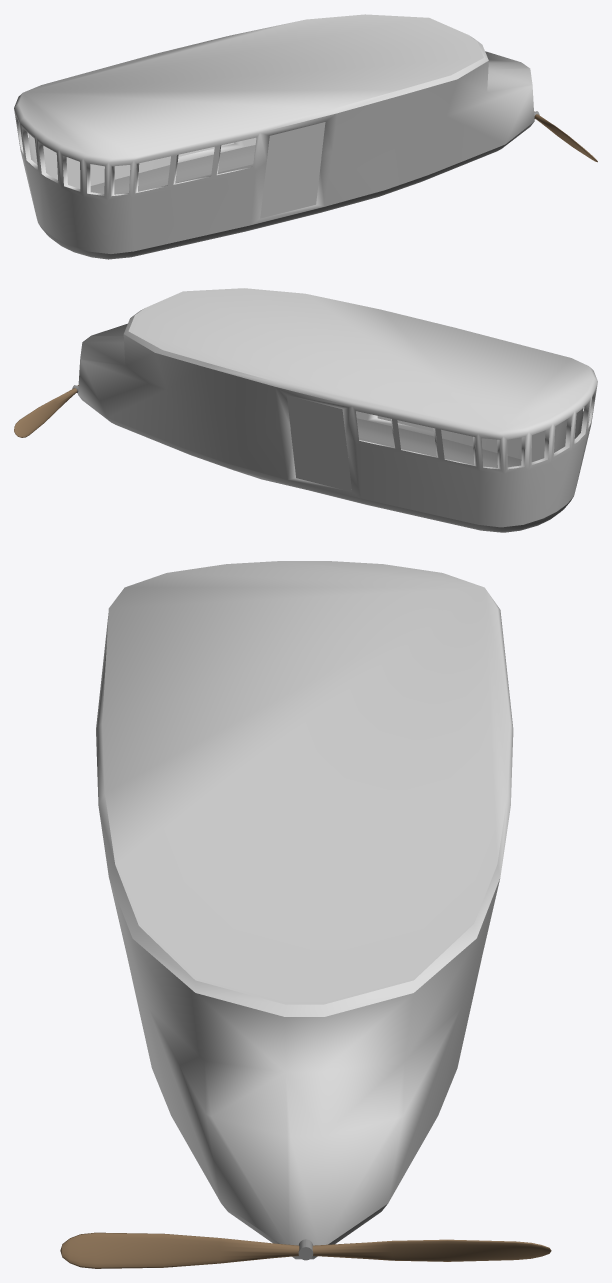
The model's file is tomsFrontGondola.fbx.
3 views of the same model, one above another, from view 1: azimuth 30°, elevation 25°; view 2: azimuth 150°, elevation 25°; view 3: azimuth 270°, elevation 25° (orthographic). The views are drawn at different scales.
Visible parts, largest first — view 1: Cockpit.Front, Door.left, prop.front; view 2: Cockpit.Front, Door.right, prop.front; view 3: Cockpit.Front, prop.front.
Boxes of the visible parts, x1,y1,x2,y2 form: Cockpit.Front: [14, 14, 539, 259]; Door.left: [260, 122, 325, 218]; prop.front: [534, 111, 597, 162]; Cockpit.Front: [72, 288, 597, 532]; Door.right: [287, 395, 351, 491]; prop.front: [14, 385, 78, 437]; Cockpit.Front: [96, 561, 513, 1260]; prop.front: [60, 1232, 551, 1268].
Bounding box in the file's own units: 842 × 211 × 356.
